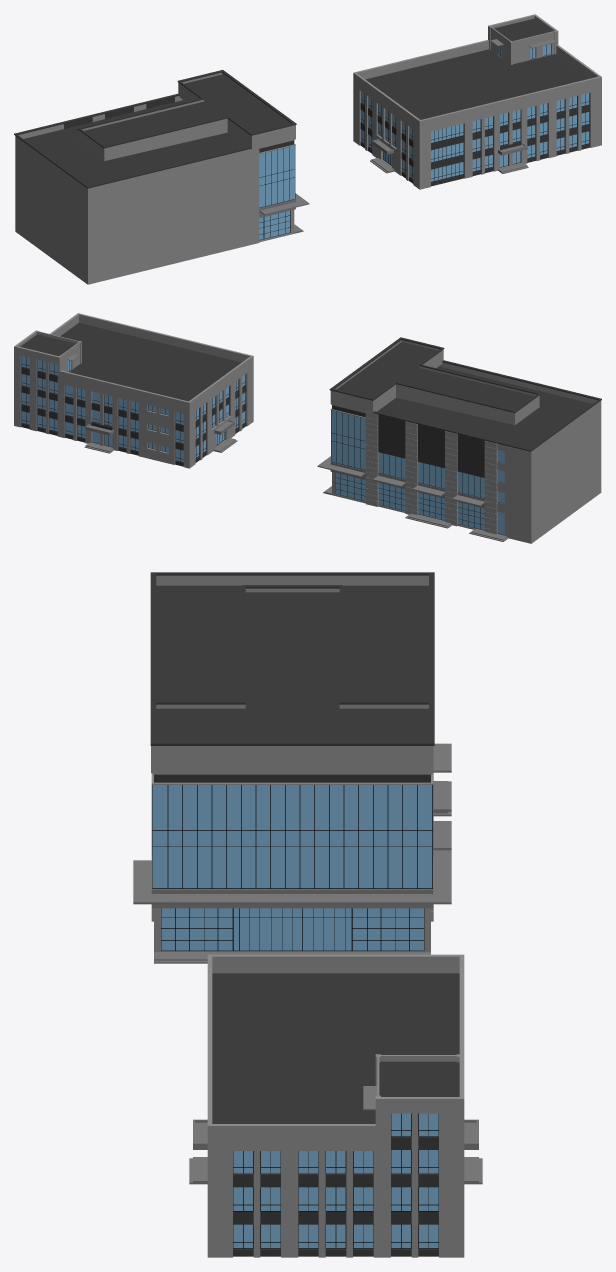
3 renders of one model, top to bottom at view 1: azimuth 30°, elevation 25°; view 2: azimuth 150°, elevation 25°; view 3: azimuth 270°, elevation 25°, orthographic. The views are drawn at different scales.
Visible parts, largest first — view 1: BD_矮楼2, BD_矮楼; view 2: BD_矮楼2, BD_矮楼; view 3: BD_矮楼2, BD_矮楼.
Boxes of the visible parts, x1,y1,x2,y2 form: BD_矮楼2: (14,70,309,284); BD_矮楼: (353,14,601,189); BD_矮楼2: (317,337,601,543); BD_矮楼: (14,313,253,468); BD_矮楼2: (133,572,451,963); BD_矮楼: (189,954,482,1257).
Size of the model in its own units: 984 by 196 by 292.
